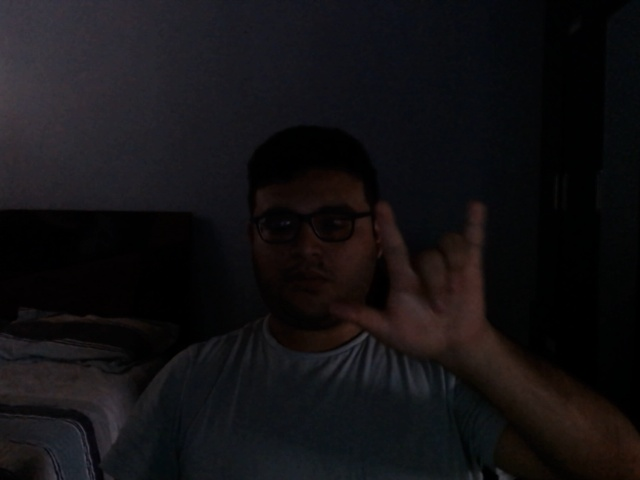I love you: (328, 199, 508, 376)
